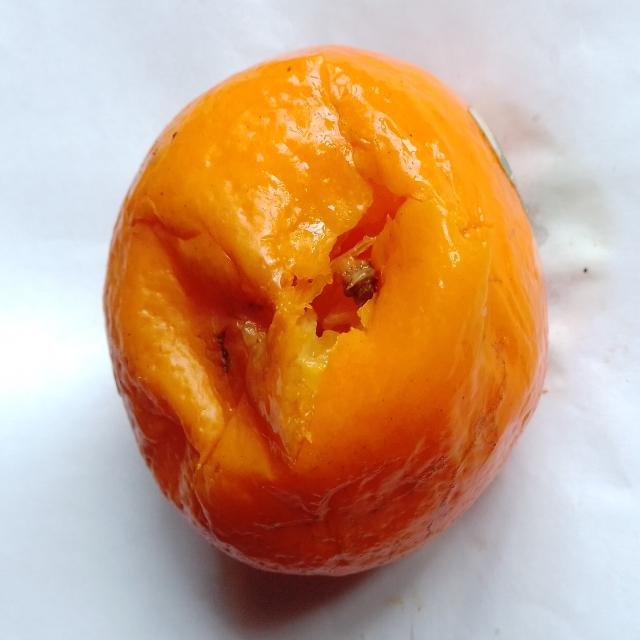orange: (105, 47, 547, 574)
